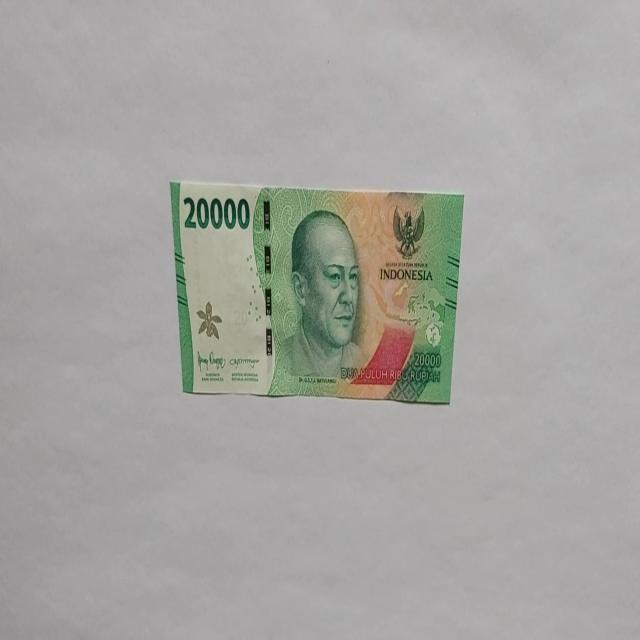dua puluh ribu rupiah: (169, 178, 465, 404), (275, 207, 369, 388)
